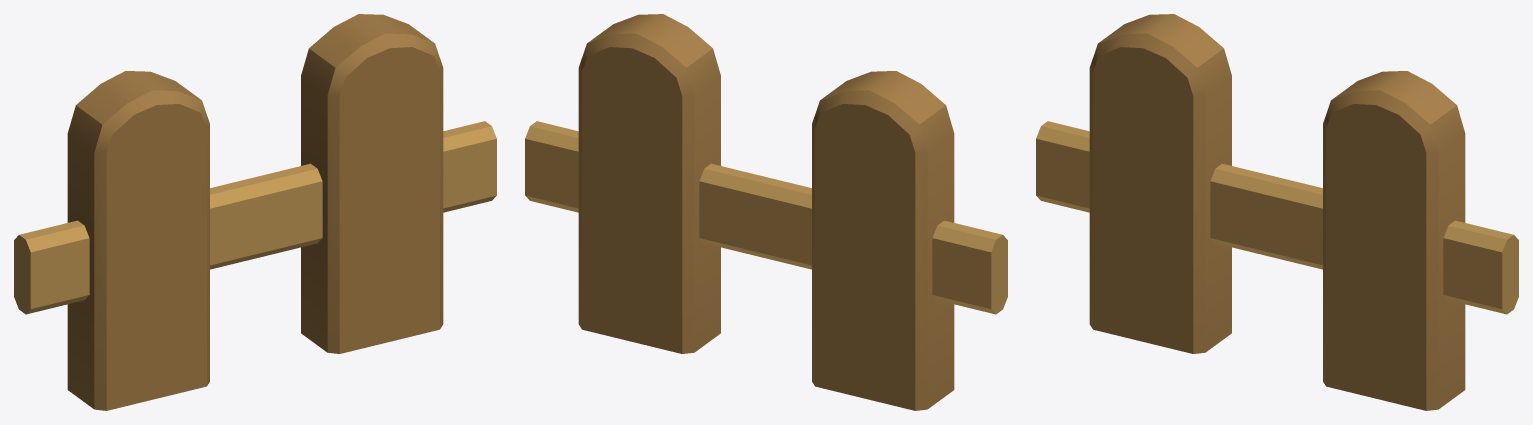
Rendered from Fence_Middle.gltf.
The picture shows the model from 3 angles, left to right: view 1: azimuth 30°, elevation 25°; view 2: azimuth 150°, elevation 25°; view 3: azimuth 330°, elevation 25°; orthographic projection.
Parts seen in each view (by area): view 1: Fence_Middle; view 2: Fence_Middle; view 3: Fence_Middle.
Part boxes in pixels (x1,y1,x2,y2): Fence_Middle: [14, 14, 496, 410]; Fence_Middle: [525, 14, 1007, 410]; Fence_Middle: [1036, 14, 1518, 410].
Size of the model in its own units: 2 by 1.25 by 0.2644.
